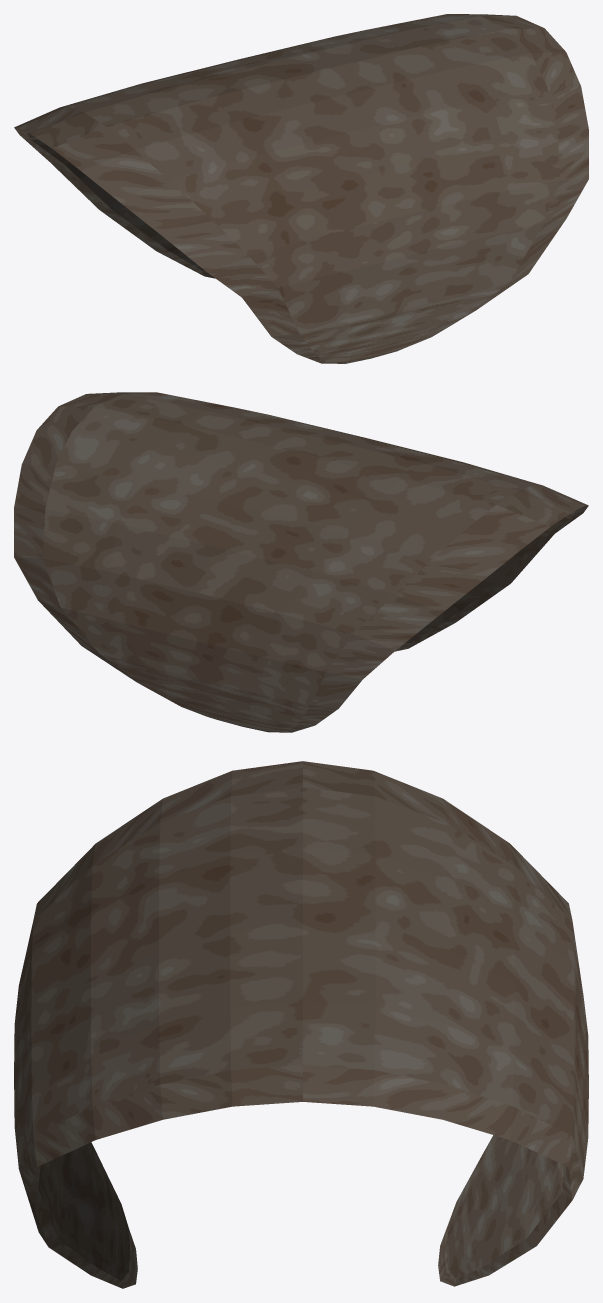
Rendered from telaAbierto.fbx.
The picture shows the model from 3 angles, top to bottom: view 1: azimuth 30°, elevation 25°; view 2: azimuth 150°, elevation 25°; view 3: azimuth 270°, elevation 25°; orthographic projection. The views are drawn at different scales.
Parts seen in each view (by area): view 1: paracaidas; view 2: paracaidas; view 3: paracaidas.
Part boxes in pixels (x1,y1,x2,y2): paracaidas: (14,14,588,363); paracaidas: (14,392,588,732); paracaidas: (14,761,588,1288).
Size of the model in its own units: 48.77 by 23.05 by 34.78.
